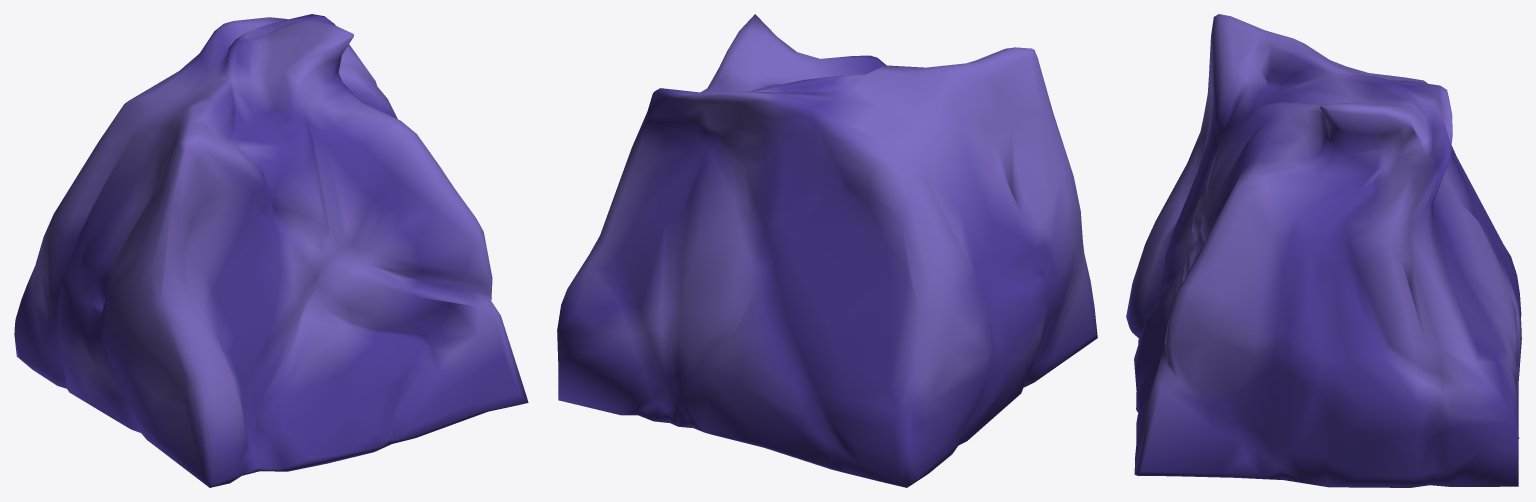
Rendered from Rock.fbx.
3 views of the same model, side by side, from view 1: azimuth 30°, elevation 25°; view 2: azimuth 150°, elevation 25°; view 3: azimuth 270°, elevation 25° (orthographic). The views are drawn at different scales.
Parts seen in each view (by area): view 1: RockLow; view 2: RockLow; view 3: RockLow.
Part boxes in pixels (x1=…): RockLow: x1=14, y1=14, x2=528, y2=487; RockLow: x1=557, y1=14, x2=1097, y2=487; RockLow: x1=1126, y1=14, x2=1521, y2=487.
Size of the model in its own units: 93.95 by 78.05 by 81.05.
